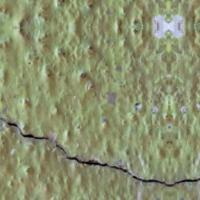crack: (0, 105, 199, 199)
